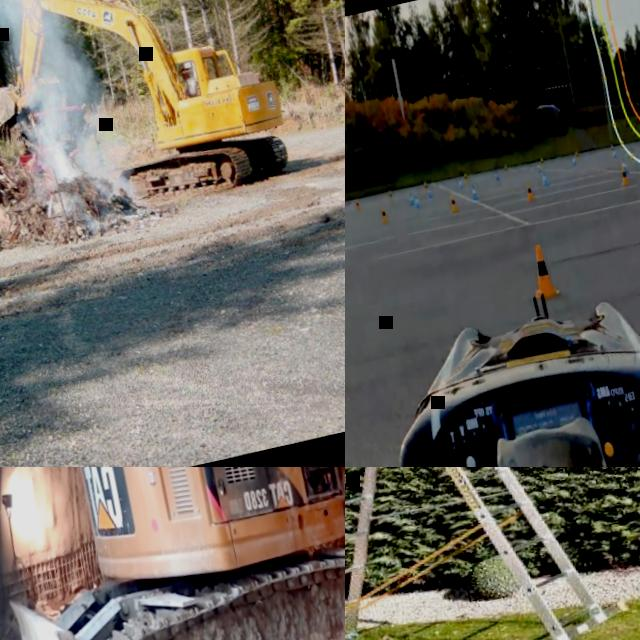Person: (249, 467, 328, 502), (179, 66, 199, 98)
Safety Cone: (520, 236, 560, 301), (617, 162, 632, 189), (521, 178, 535, 204), (446, 191, 459, 213), (378, 205, 390, 227), (467, 181, 479, 203), (539, 169, 550, 191), (413, 193, 424, 215)
vehicle: (0, 0, 299, 238), (345, 227, 640, 467), (0, 467, 345, 640)
